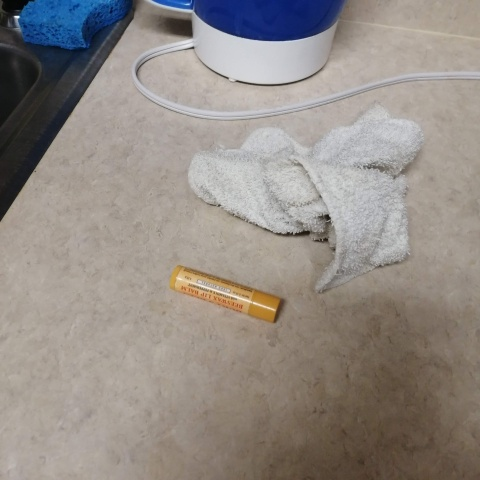chapstick: (167, 263, 284, 327)
